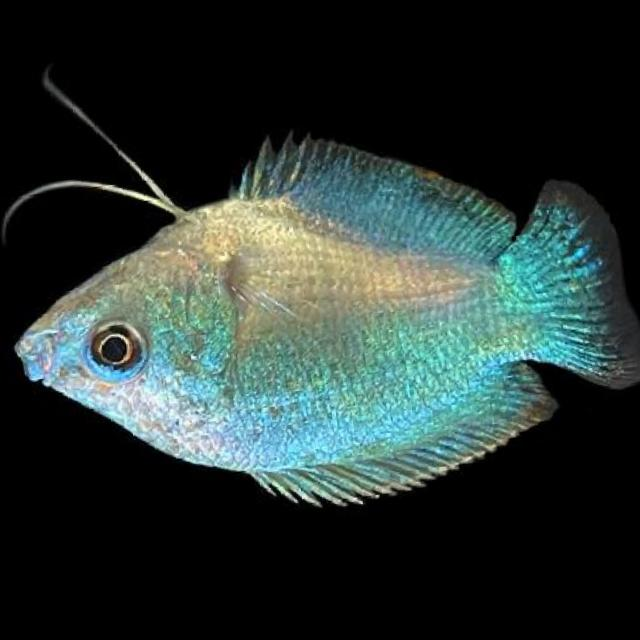Gourami: (0, 96, 640, 550)
